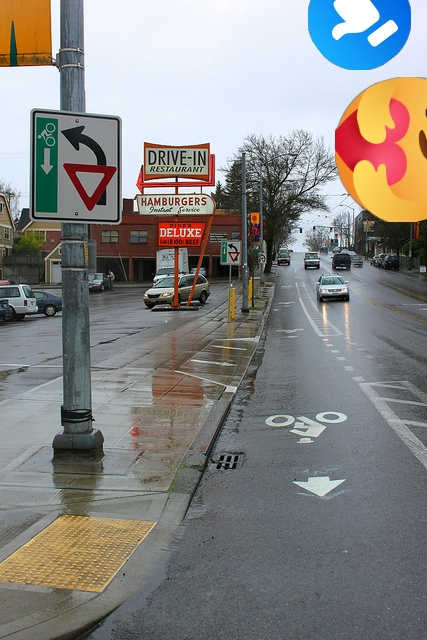care: (335, 77, 427, 222)
like: (308, 0, 411, 70)
